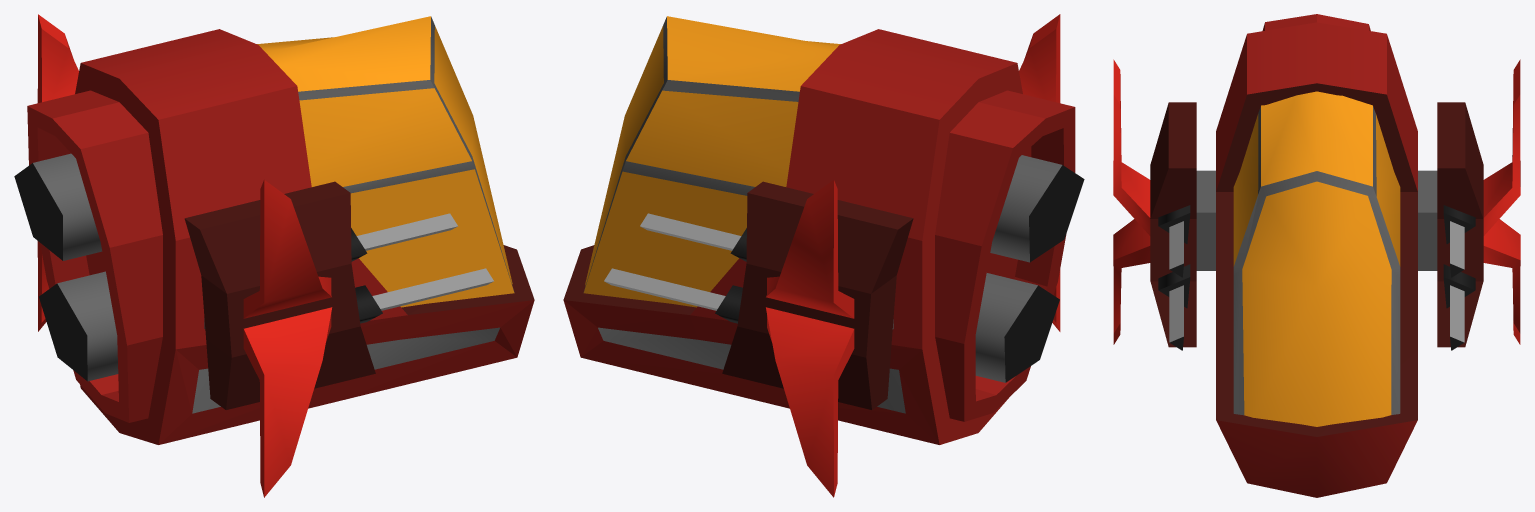
The model's file is enemy_ship01.FBX.
3 views of the same model, side by side, from view 1: azimuth 30°, elevation 25°; view 2: azimuth 150°, elevation 25°; view 3: azimuth 270°, elevation 25° (orthographic). The views are drawn at different scales.
Parts seen in each view (by area): view 1: Box001; view 2: Box001; view 3: Box001.
Boxes of the visible parts, x1=… form: Box001: x1=14, y1=14, x2=534, y2=497; Box001: x1=563, y1=14, x2=1084, y2=497; Box001: x1=1113, y1=14, x2=1520, y2=497.
Size of the model in its own units: 90.59 by 63.51 by 73.61.
